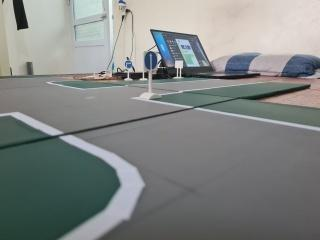straight: (142, 50, 160, 72)
